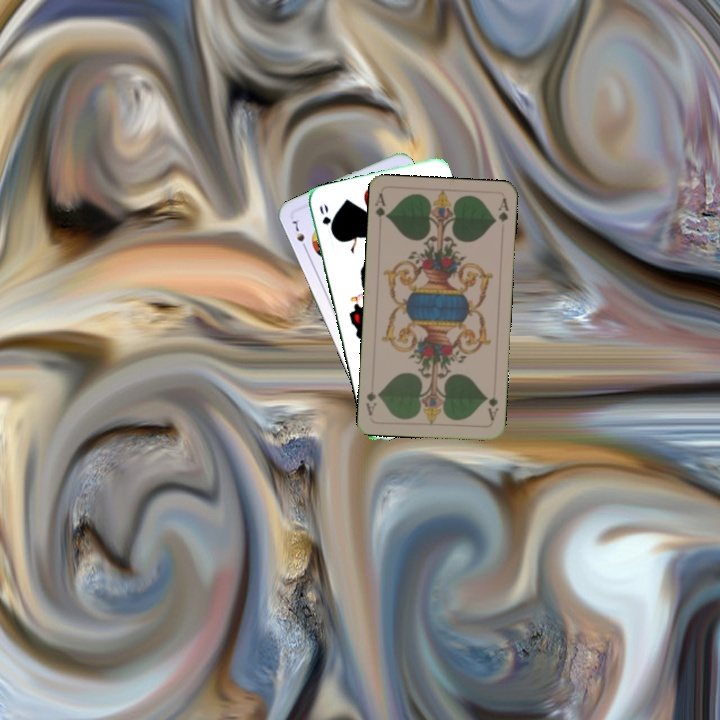GA: (371, 189, 391, 221), (482, 393, 501, 423)
GO: (315, 200, 338, 239)
S7: (288, 215, 310, 253)
